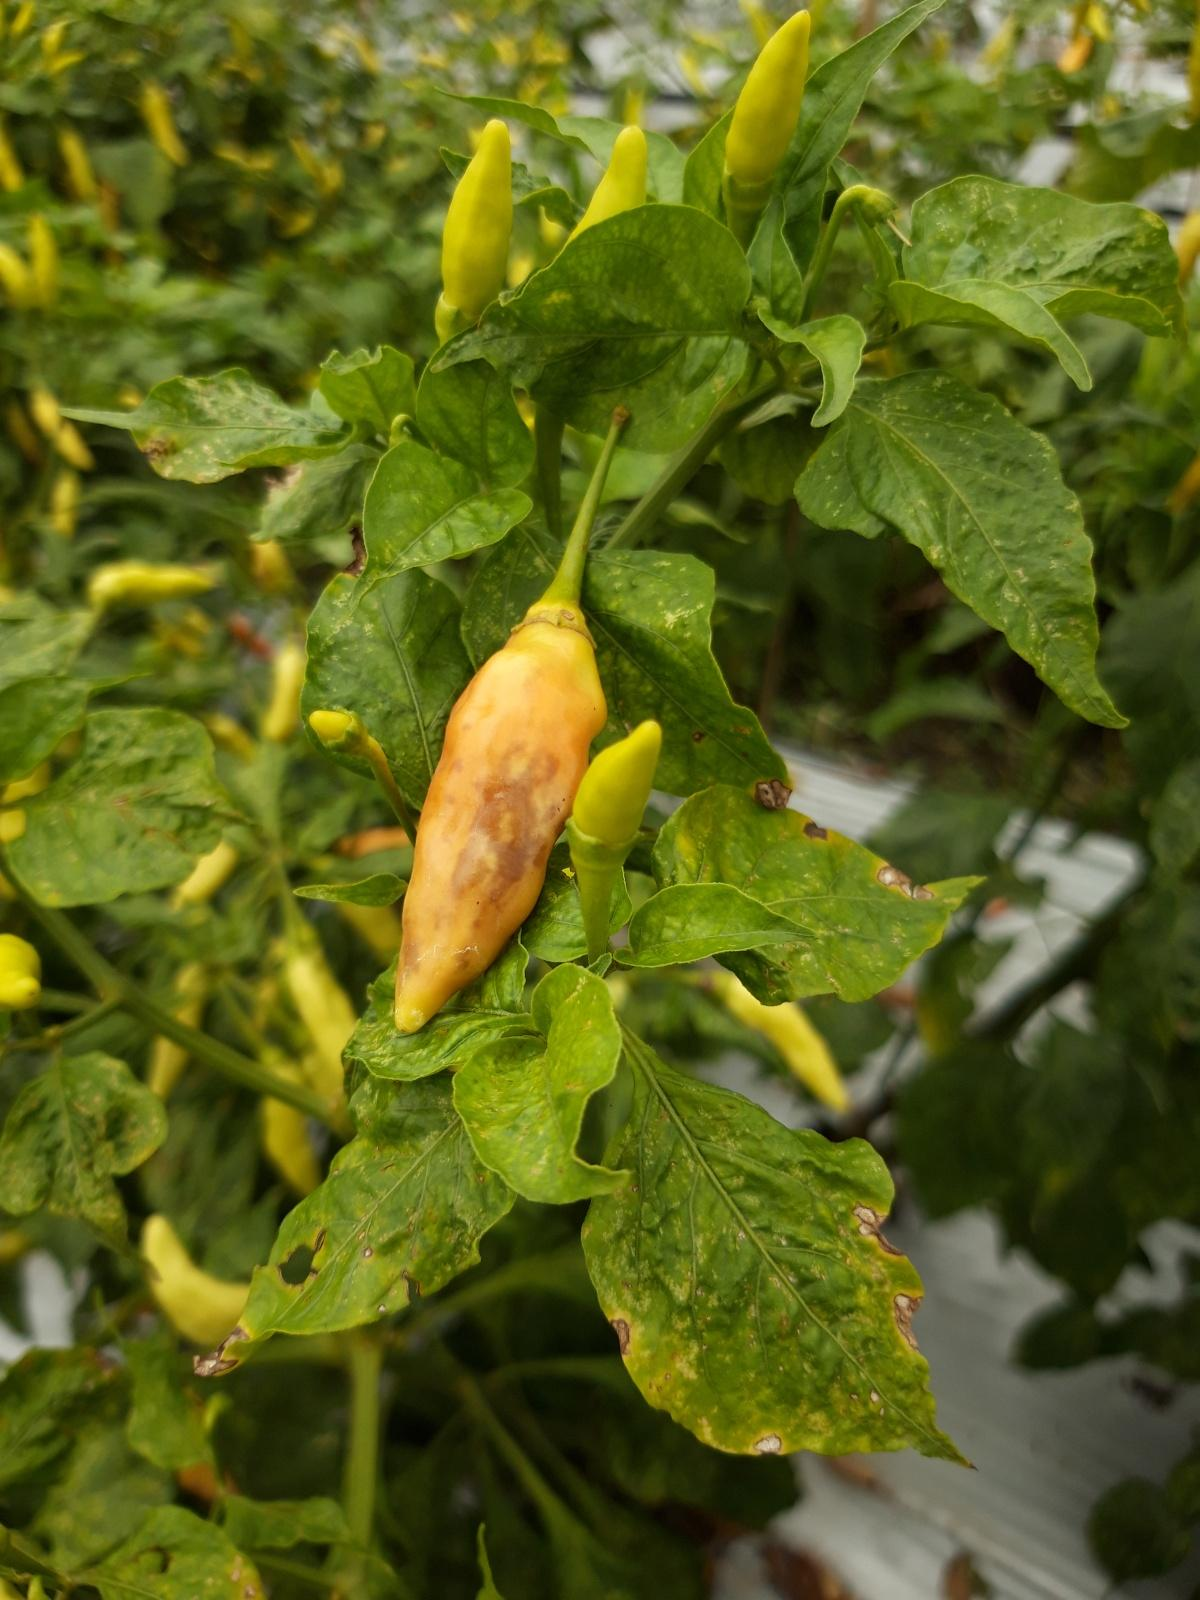cabai_normal: (717, 975, 853, 1116), (720, 9, 813, 202), (440, 117, 516, 319), (571, 721, 663, 855)
lalat_buah: (395, 609, 609, 1024)
